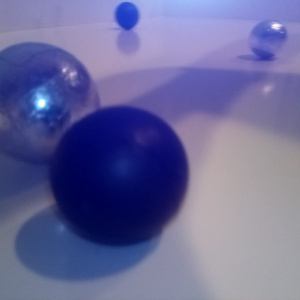alive_ball: (1, 42, 100, 165), (249, 20, 289, 58)
dead_ball: (49, 106, 188, 247), (115, 2, 139, 27)
